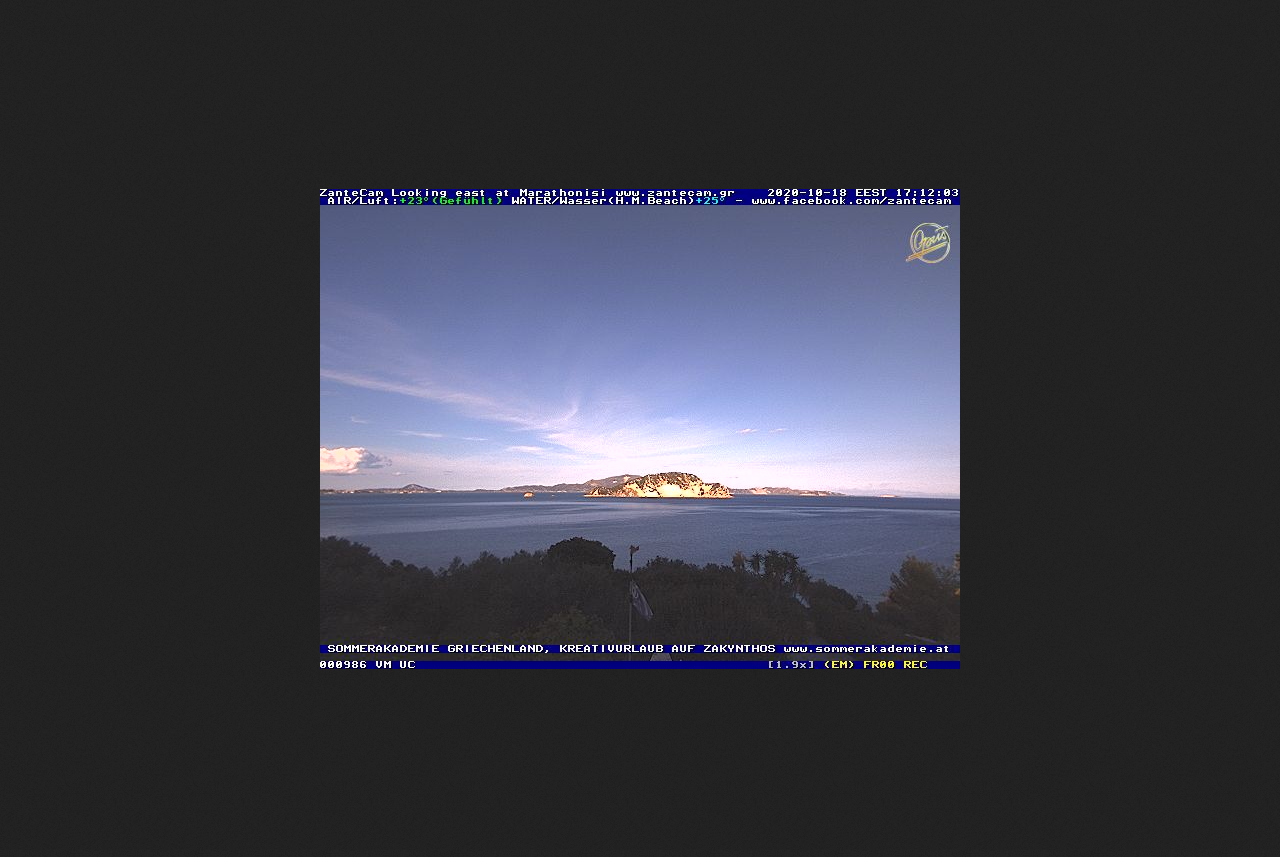maybe: (623, 570, 658, 626)
